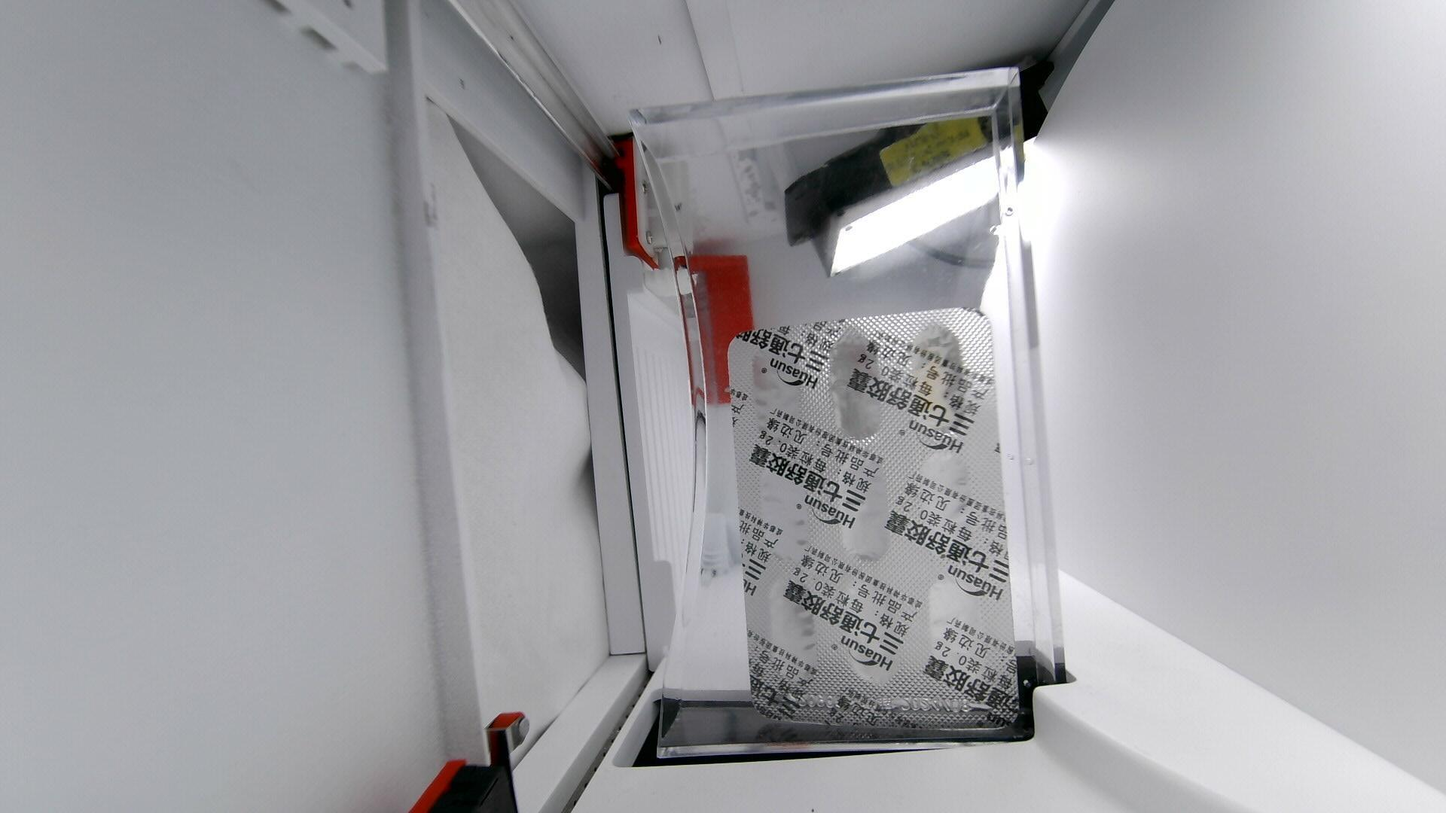Pill Back: (908, 324, 969, 449), (825, 328, 886, 439), (915, 447, 978, 552), (748, 342, 813, 442), (918, 571, 983, 671), (834, 451, 894, 558), (837, 573, 899, 676), (762, 582, 823, 683), (756, 458, 814, 558)
